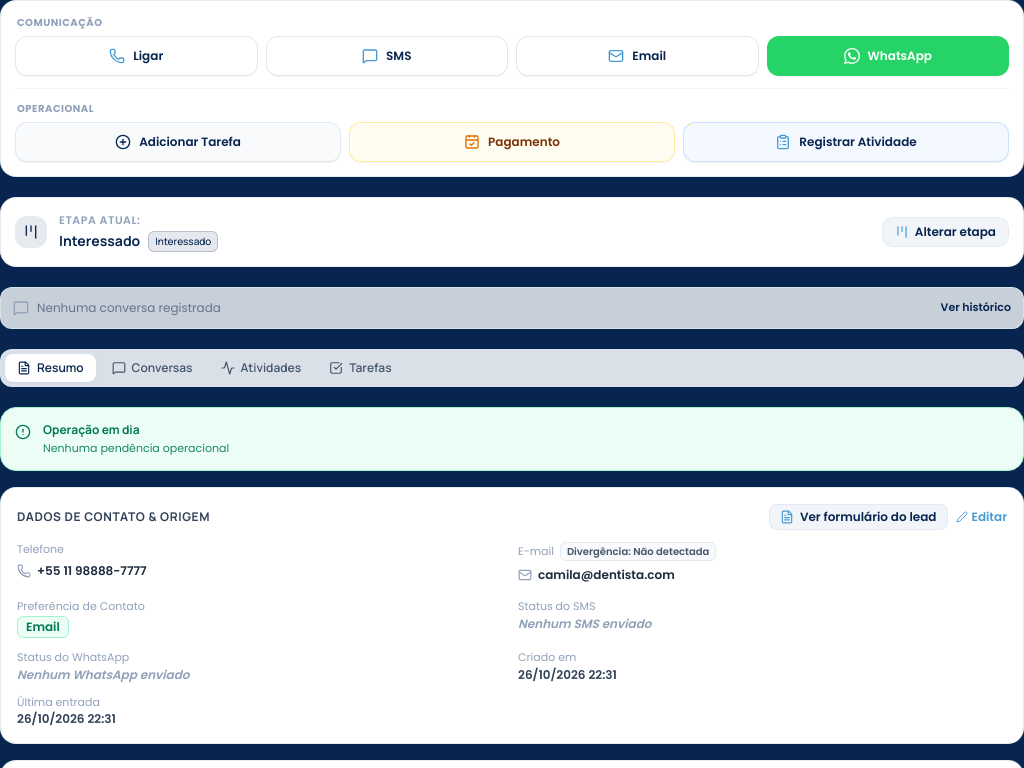
Test: EDS HUB — Stage Edit + Pipeline Drag & Drop Suite › 1. Lead Profile Stage Visibility and Manual Edit › clicking "Alterar etapa" opens the internal selector modal
The width and height of the screenshot is (1024, 768).
Click the button with test id "alterar-etapa-button". click: (945, 232)
box: x1=882 y1=217 x2=1009 y2=247
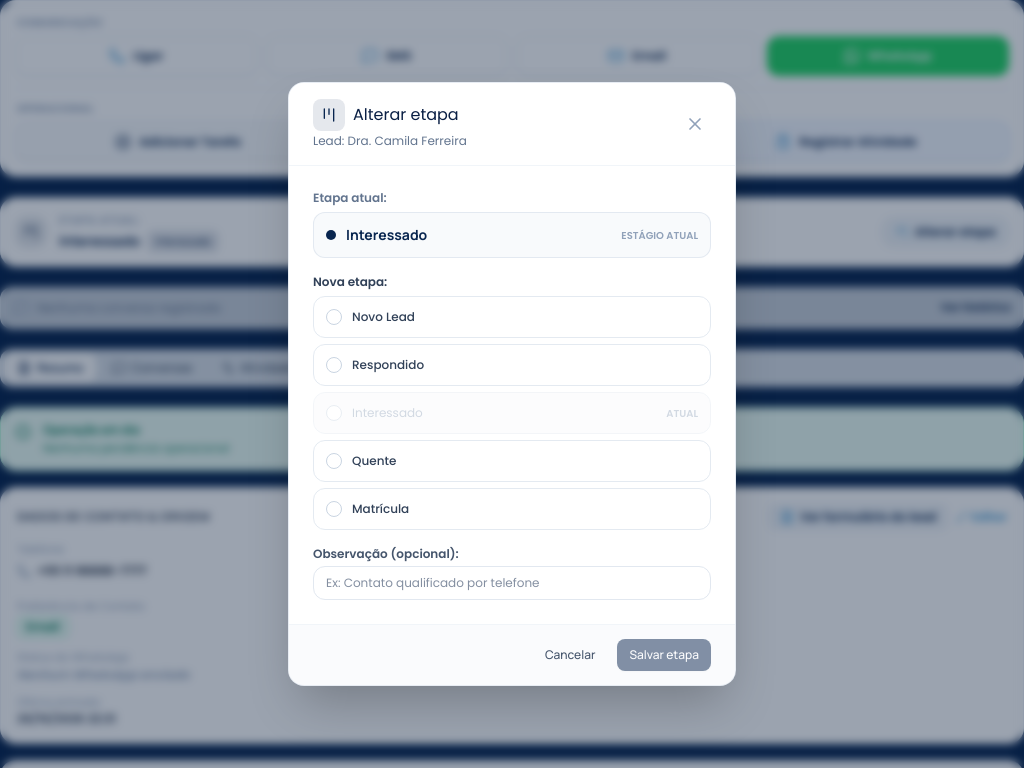
expect the text "Nova etapa:" is shown: met, box x1=313 y1=273 x2=387 y2=290
expect the text with test id "modal-current-stage-name" reads "Interessado": met, box x1=346 y1=225 x2=427 y2=244
